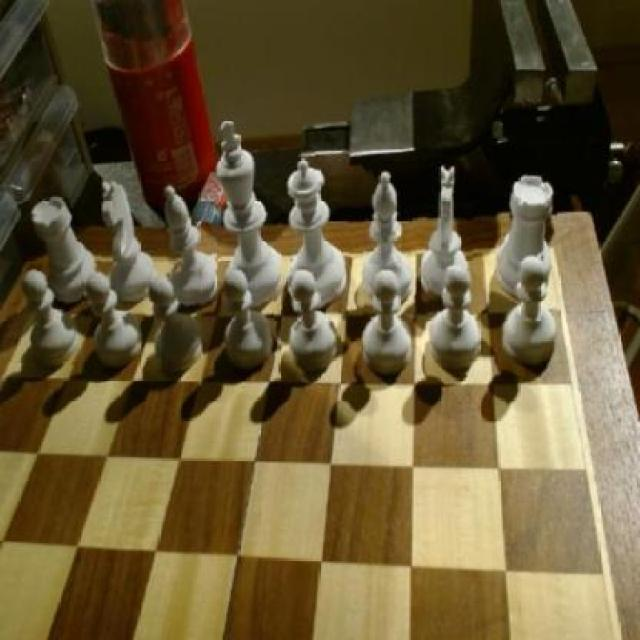black-rook: (164, 174, 223, 309), (362, 168, 412, 302)
white-bishop: (216, 116, 282, 312)
white-king: (416, 158, 474, 302), (100, 177, 161, 299)
white-knight: (502, 256, 558, 380), (282, 264, 339, 376), (85, 265, 146, 369), (20, 266, 82, 366), (426, 270, 483, 376), (362, 265, 414, 379), (216, 268, 274, 370), (148, 272, 203, 368)
white-pawn: (283, 151, 349, 317)
white-queen: (495, 172, 557, 295), (32, 199, 100, 306)
